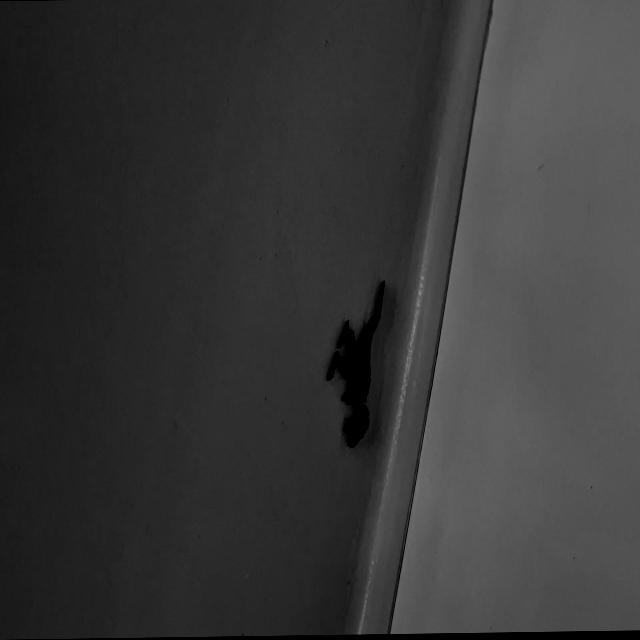dino: (326, 279, 385, 448)
